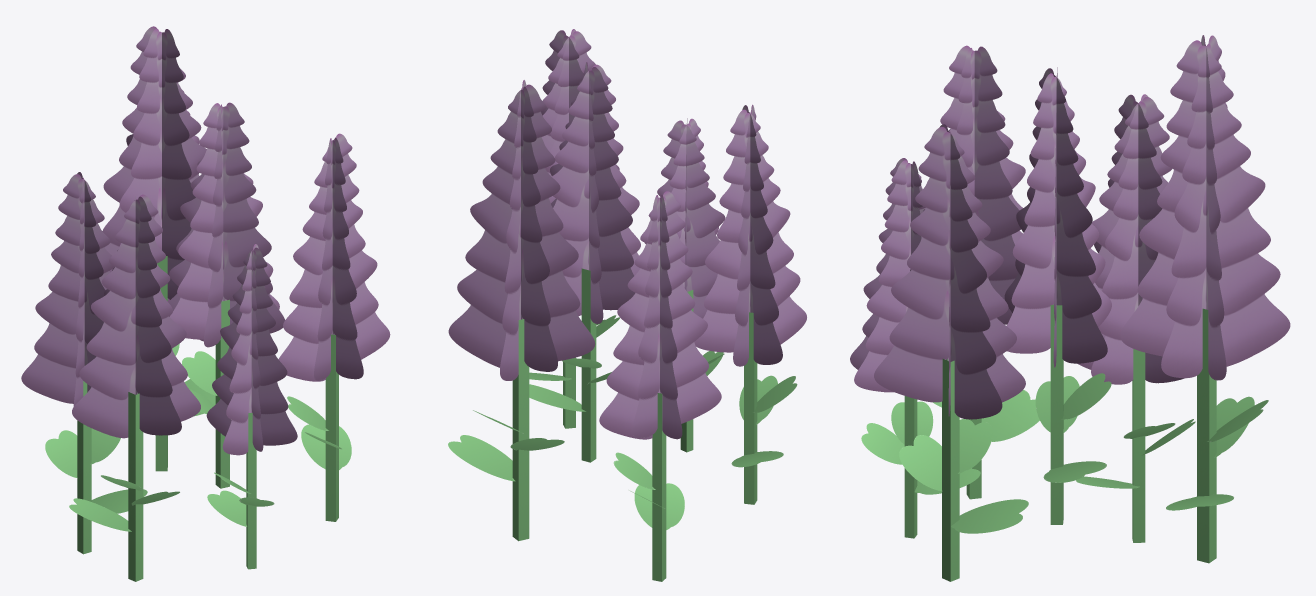
Rendered from envFlower_Lavender_grp.fbx.
3 views of the same model, side by side, from view 1: azimuth 30°, elevation 25°; view 2: azimuth 150°, elevation 25°; view 3: azimuth 270°, elevation 25° (orthographic). The views are drawn at different scales.
Visible parts, largest first — view 1: envFlower_Lavender_grp; view 2: envFlower_Lavender_grp; view 3: envFlower_Lavender_grp.
Boxes of the visible parts, x1=… form: envFlower_Lavender_grp: x1=21, y1=26, x2=390, y2=581; envFlower_Lavender_grp: x1=448, y1=29, x2=806, y2=581; envFlower_Lavender_grp: x1=850, y1=35, x2=1290, y2=581.
Bounding box in the file's own units: 0.2917 × 0.4339 × 0.3144.
Materials: 1 (1 with a texture image).
